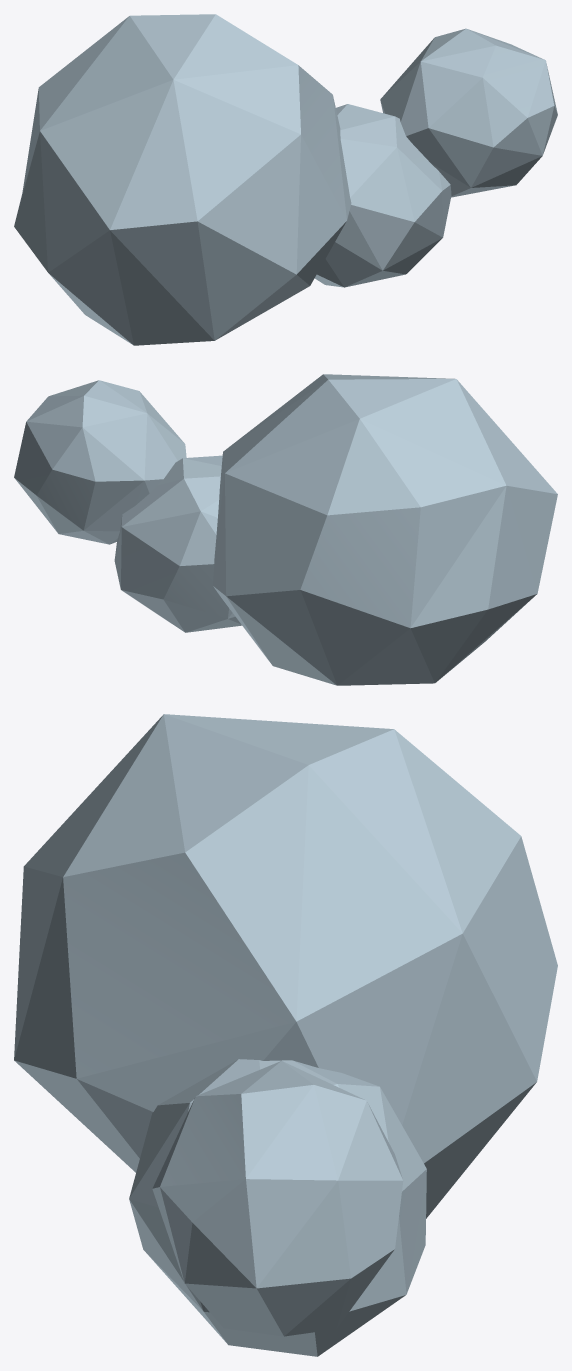
Rendered from small_cloud_2.fbx.
3 renders of one model, top to bottom at view 1: azimuth 30°, elevation 25°; view 2: azimuth 150°, elevation 25°; view 3: azimuth 270°, elevation 25°, orthographic. The views are drawn at different scales.
Visible parts, largest first — view 1: cloud_2; view 2: cloud_2; view 3: cloud_2.
Boxes of the visible parts, x1,y1,x2,y2 form: cloud_2: (14, 14, 557, 345); cloud_2: (14, 374, 557, 685); cloud_2: (14, 714, 557, 1356).
Size of the model in its own units: 358 by 200 by 203.
